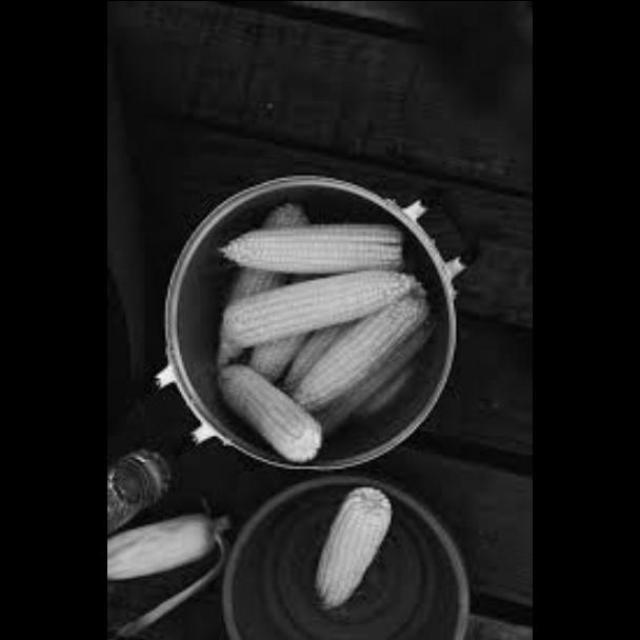ngu coc: (219, 260, 421, 351), (212, 202, 424, 278), (289, 294, 420, 412), (297, 480, 408, 615), (214, 360, 332, 469), (106, 501, 227, 596)
